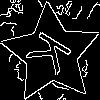K: (26, 29, 81, 82)
